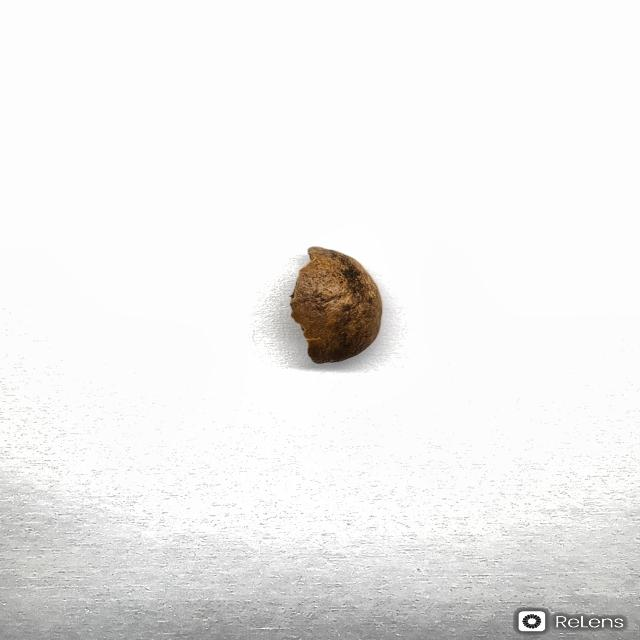Broken: (288, 245, 384, 364)
